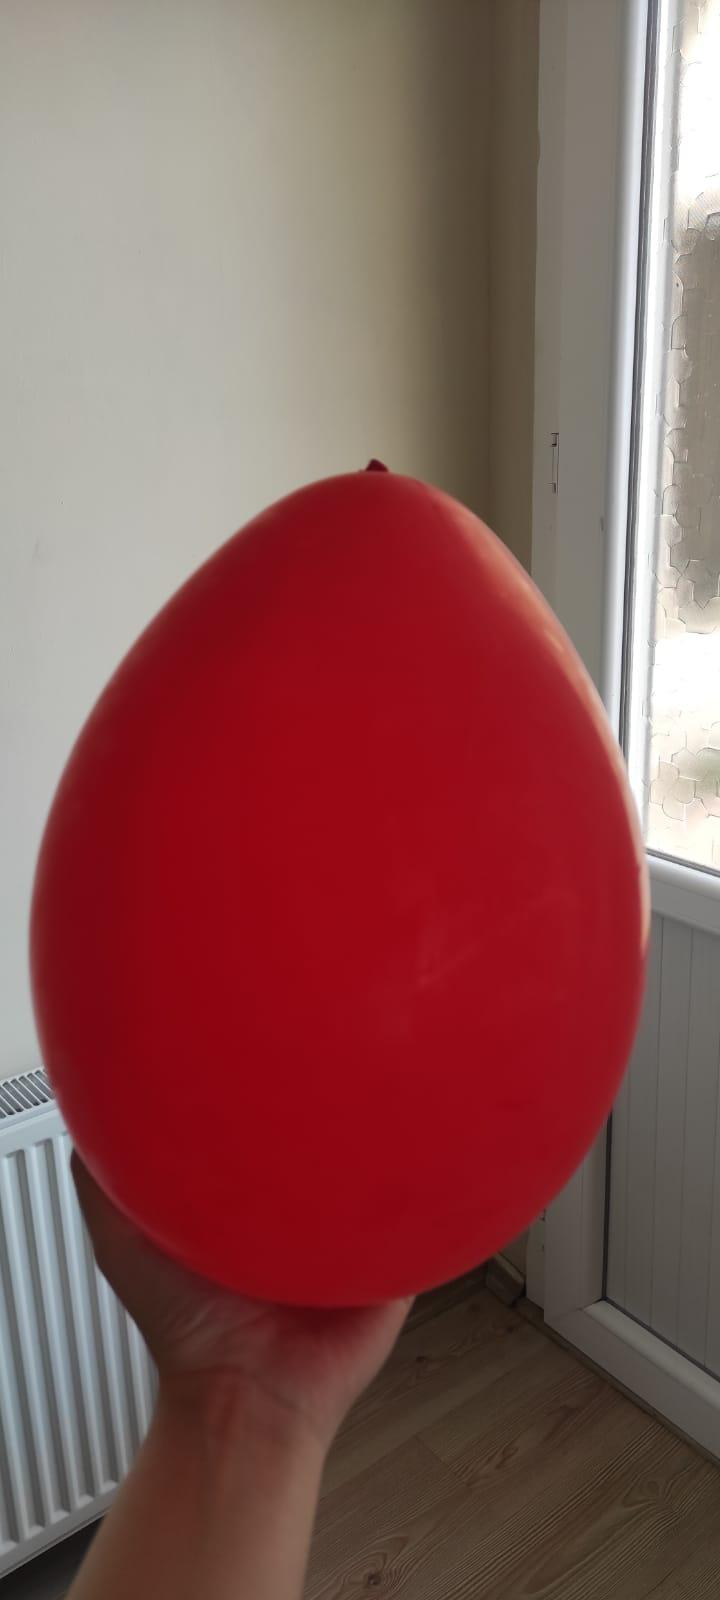red: (28, 451, 659, 1319)
